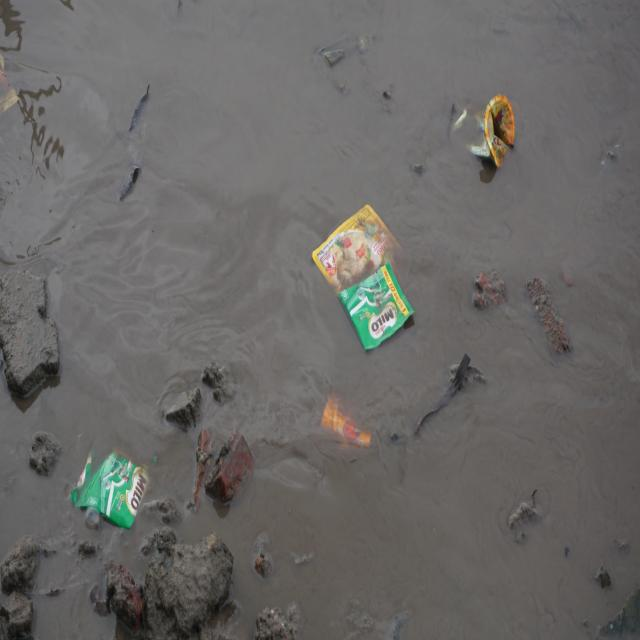Bungkus Makanan: (310, 201, 408, 285)
Bungkus Minuman: (74, 436, 153, 534), (338, 262, 416, 349), (449, 92, 520, 175)
